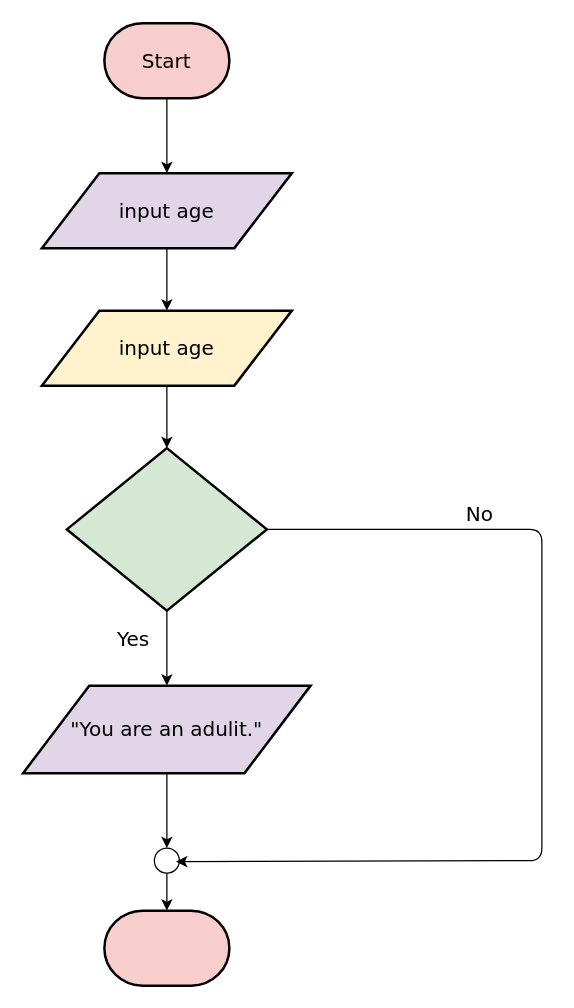
Some shapes in this 574 by 1008 pixel diagram are drawn without their labels. Here are the shapes that lost their labels. From the top down, the centre of each, then its label:
(166,528): age >= 18?
(166,947): Stop
